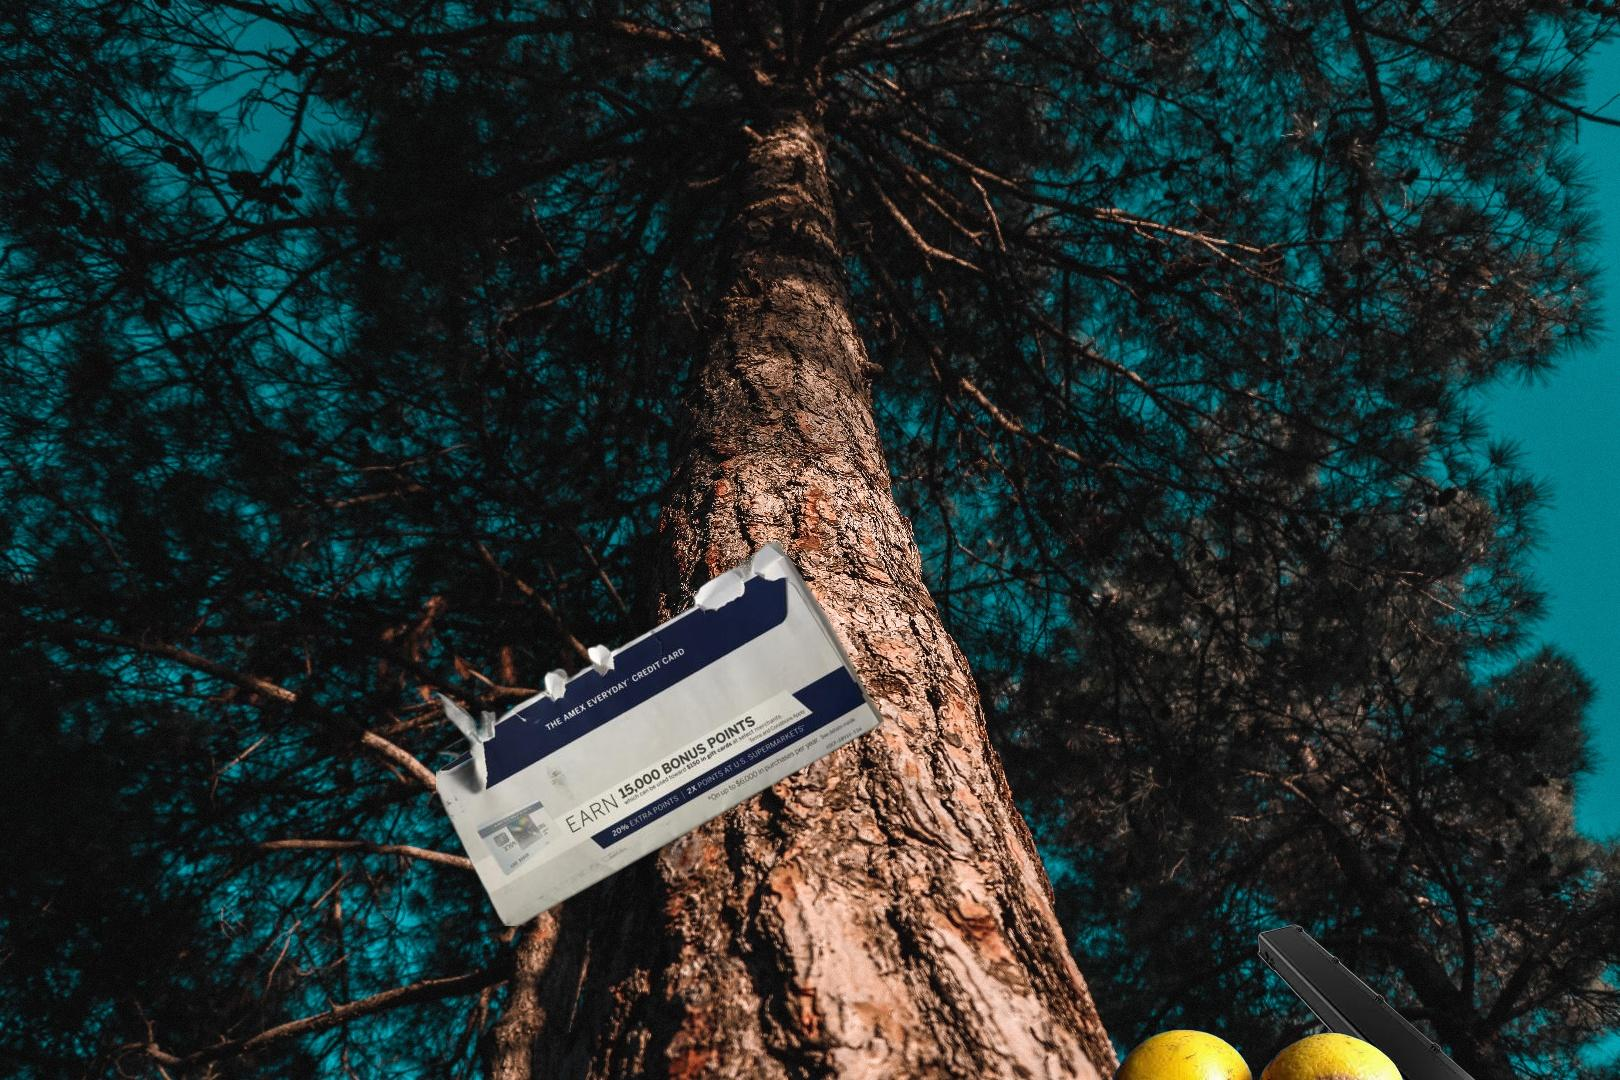battery: (1254, 925, 1484, 1080)
biological: (1111, 1026, 1410, 1080)
paper: (436, 542, 887, 926)
